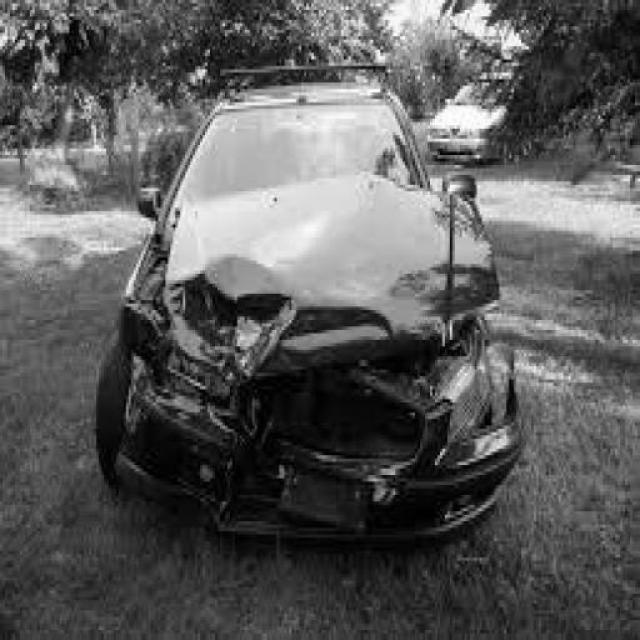crush: (118, 226, 524, 534)
